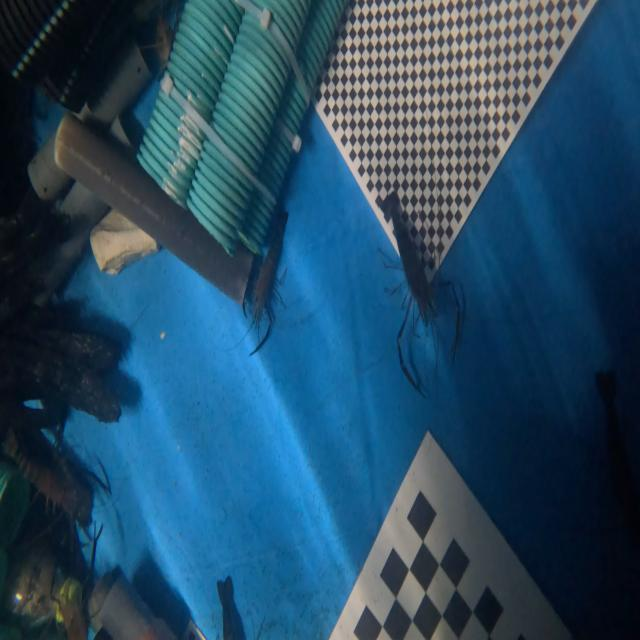prawn: (244, 208, 287, 343), (379, 194, 429, 306)
